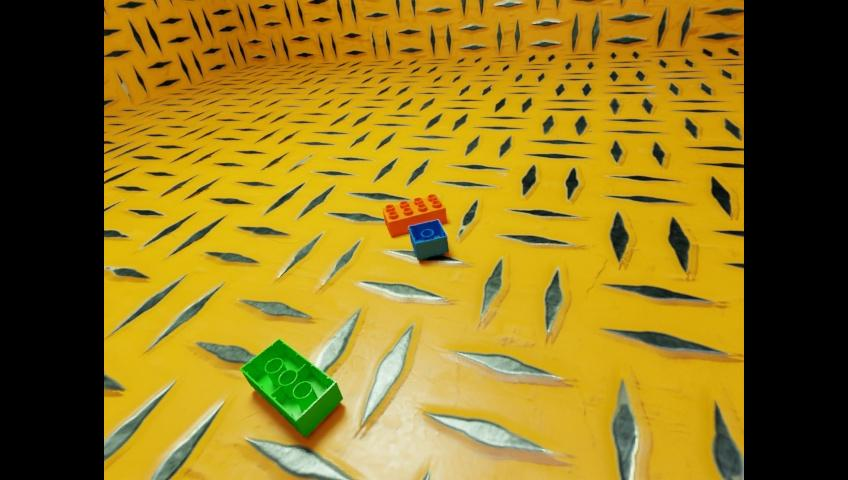2x2_blue: (408, 219, 448, 259)
4x2_green: (240, 337, 342, 437)
4x2_orange: (382, 193, 446, 236)
